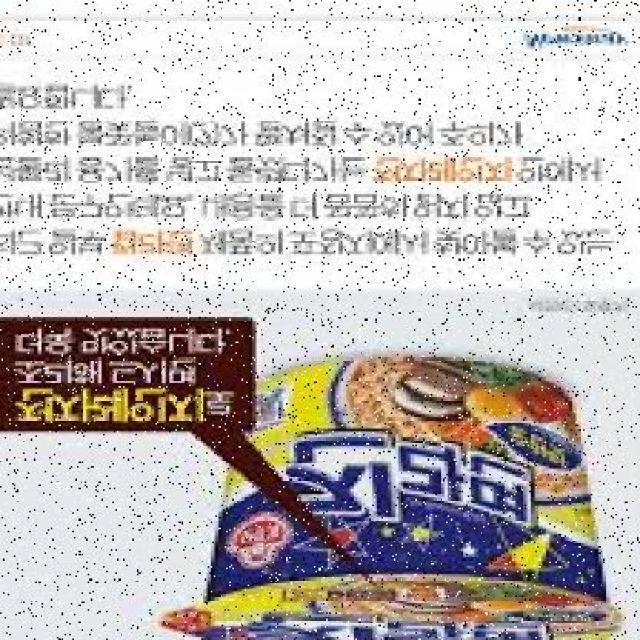Miscellaneous: (192, 354, 628, 640)
